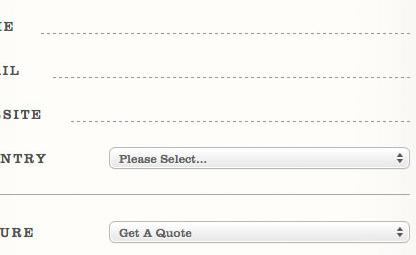field: (109, 147, 410, 170), (110, 221, 411, 243)
field_line: (37, 18, 411, 35), (49, 64, 410, 80), (67, 107, 412, 123)
